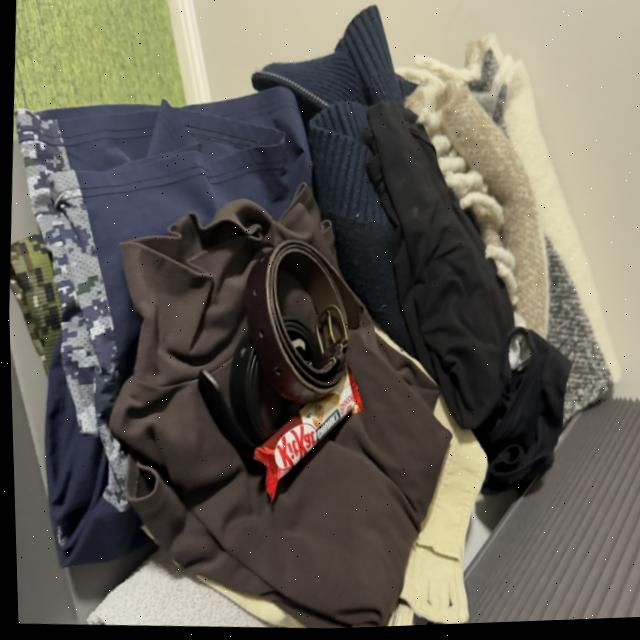chocolate: (244, 366, 369, 513)
